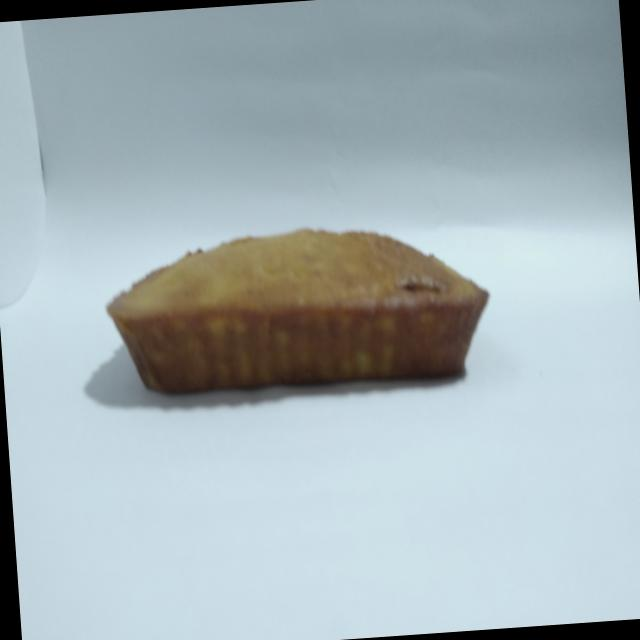Sopa: (90, 199, 508, 425)
